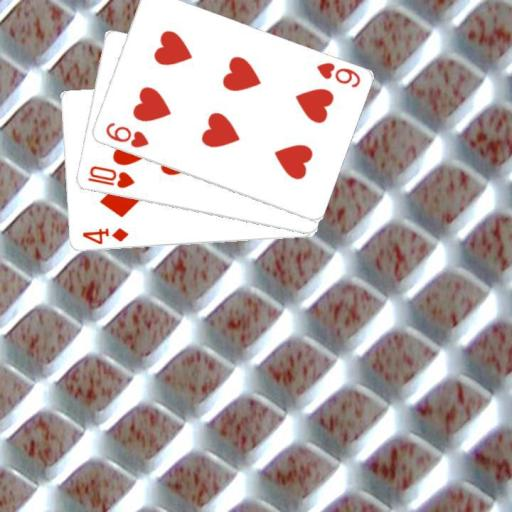10H: (85, 163, 136, 190)
4D: (79, 225, 129, 246)
6H: (313, 59, 362, 90), (102, 120, 150, 150)
